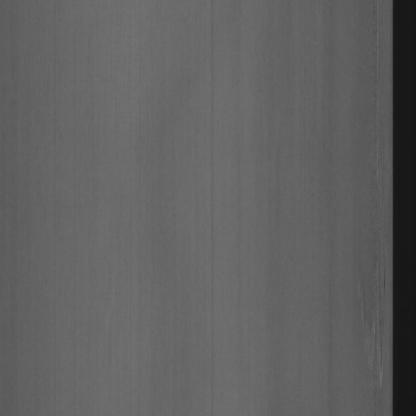silk_spot: (351, 266, 389, 392)
